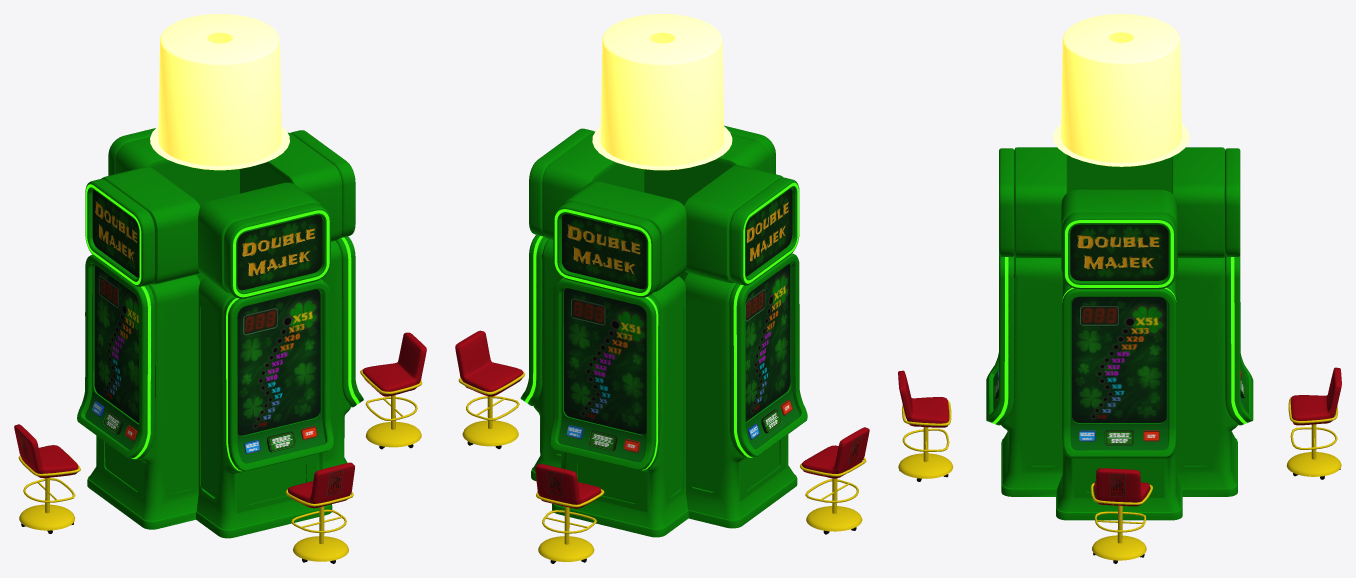
The model's file is DoubleMajekIsland.fbx.
3 renders of one model, left to right at view 1: azimuth 30°, elevation 25°; view 2: azimuth 150°, elevation 25°; view 3: azimuth 270°, elevation 25°, orthographic. The views are drawn at different scales.
Visible parts, largest first — view 1: DoubleMajekAutomat.001, DoubleMajekAutomat.003, WaterFontani, DoubleMajekAutomat.002, DoubleMajekAutomat, GameChair.063, GameChair.064, GameChair.065, DoubleMajekTXT.001, DoubleMajekTXT.003; view 2: DoubleMajekAutomat, DoubleMajekAutomat.003, WaterFontani, DoubleMajekAutomat.002, GameChair.063, DoubleMajekAutomat.001, GameChair.062, GameChair.065, DoubleMajekTXT, DoubleMajekTXT.003; view 3: DoubleMajekAutomat.002, DoubleMajekAutomat, DoubleMajekAutomat.001, WaterFontani, GameChair.063, GameChair.062, GameChair.064, DoubleMajekAutomat.003, DoubleMajekTXT.002.
Boxes of the visible parts, x1,y1,x2,y2 form: DoubleMajekAutomat.001: [196, 182, 333, 538]; DoubleMajekAutomat.003: [77, 166, 200, 529]; WaterFontani: [150, 14, 289, 170]; DoubleMajekAutomat.002: [240, 130, 363, 468]; DoubleMajekAutomat: [108, 128, 239, 281]; GameChair.063: [360, 332, 426, 449]; GameChair.064: [285, 462, 354, 563]; GameChair.065: [14, 424, 80, 533]; DoubleMajekTXT.001: [242, 228, 315, 276]; DoubleMajekTXT.003: [95, 200, 137, 262]; DoubleMajekAutomat: [550, 181, 688, 537]; DoubleMajekAutomat.003: [683, 165, 807, 528]; WaterFontani: [592, 14, 732, 170]; DoubleMajekAutomat.002: [520, 128, 644, 481]; GameChair.063: [455, 330, 524, 449]; DoubleMajekAutomat.001: [644, 125, 775, 281]; GameChair.062: [535, 463, 604, 563]; GameChair.065: [800, 427, 869, 534]; DoubleMajekTXT: [567, 224, 640, 274]; DoubleMajekTXT.003: [746, 202, 788, 261]; DoubleMajekAutomat.002: [1056, 189, 1182, 520]; DoubleMajekAutomat: [1172, 147, 1253, 496]; DoubleMajekAutomat.001: [986, 147, 1067, 496]; WaterFontani: [1053, 14, 1189, 166]; GameChair.063: [1090, 468, 1152, 563]; GameChair.062: [1286, 367, 1341, 479]; GameChair.064: [898, 370, 953, 481]; DoubleMajekAutomat.003: [1067, 155, 1171, 192]; DoubleMajekTXT.002: [1077, 234, 1160, 269].
Size of what is drawn, in the model's own units: 473 by 505 by 469.
Materials: 8 (4 with a texture image).
